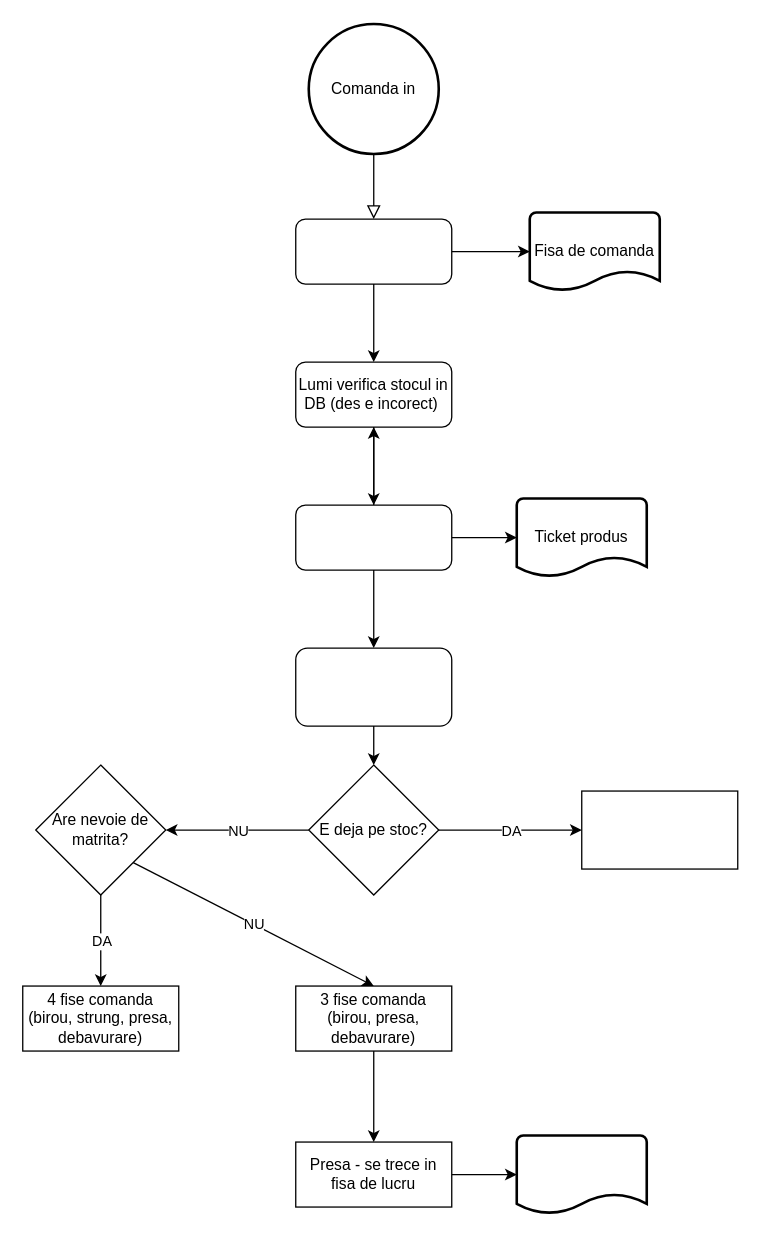
Image size: 761x1236. Some labels were removed from this diagram. Here are the shapes that lost their labels. From the top down, the box of each, then its label:
(294, 218, 452, 284): Comanda interna (acceptata)
(294, 504, 452, 570): Lumi scrie ticketele pt prese (ar trebui Dan - cred)
(294, 647, 452, 726): Lumi face comanda interna si ticketele (O fisa comanda ramane birou)
(580, 790, 738, 869): 2 fise comanda - birou (Lumi), debavurare (Lenche)
(515, 1134, 647, 1214): Fisa de lucru
